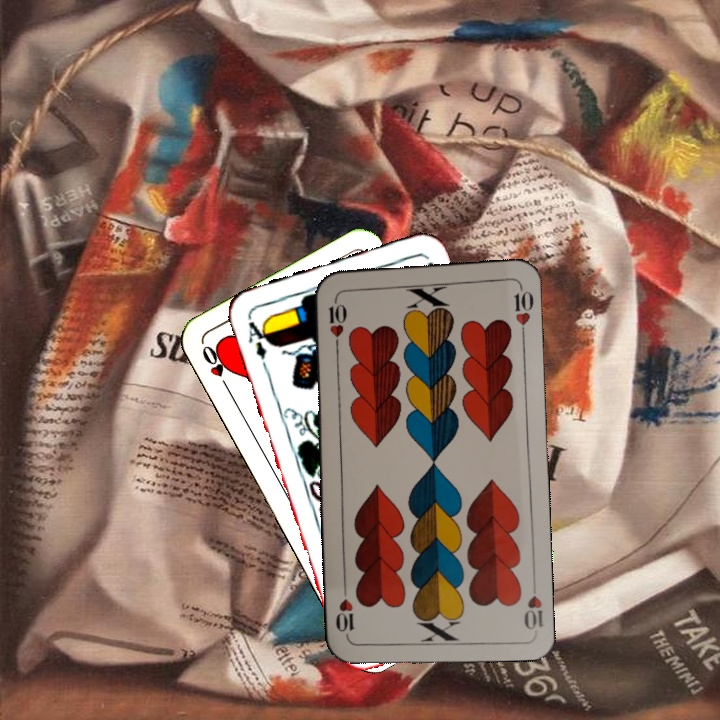EA: (243, 313, 274, 363)
H10: (520, 574, 545, 633), (325, 291, 348, 351)
HO: (197, 341, 233, 395)
